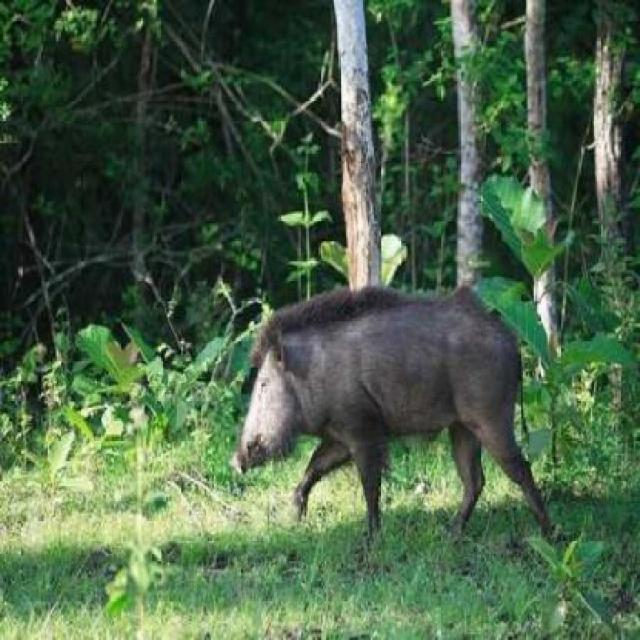Boar: (175, 271, 574, 560)
